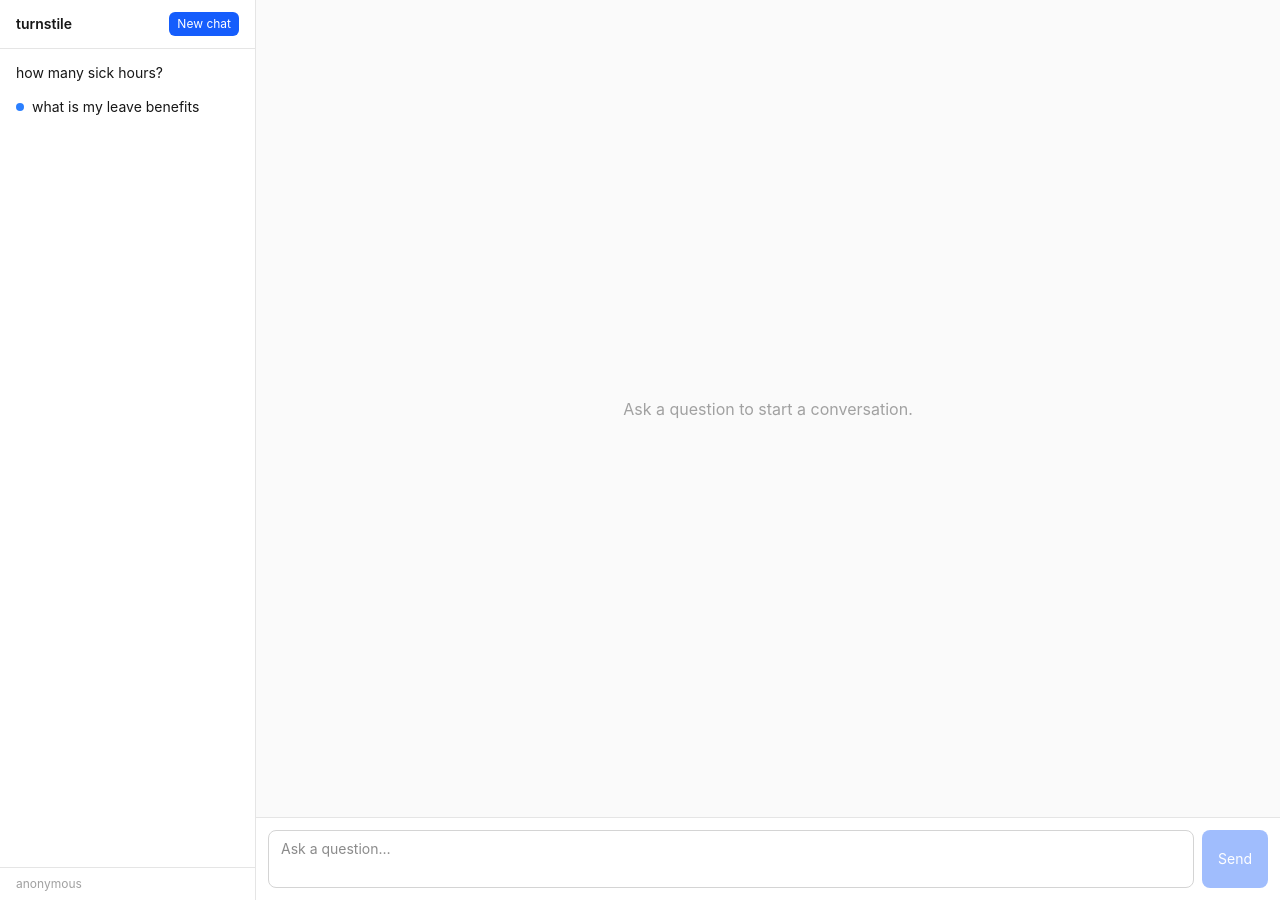
selecting a conversation loads its history (user + assistant only)
Click the button "how many sick hours?". click: [128, 73]
box: [8, 57, 247, 89]
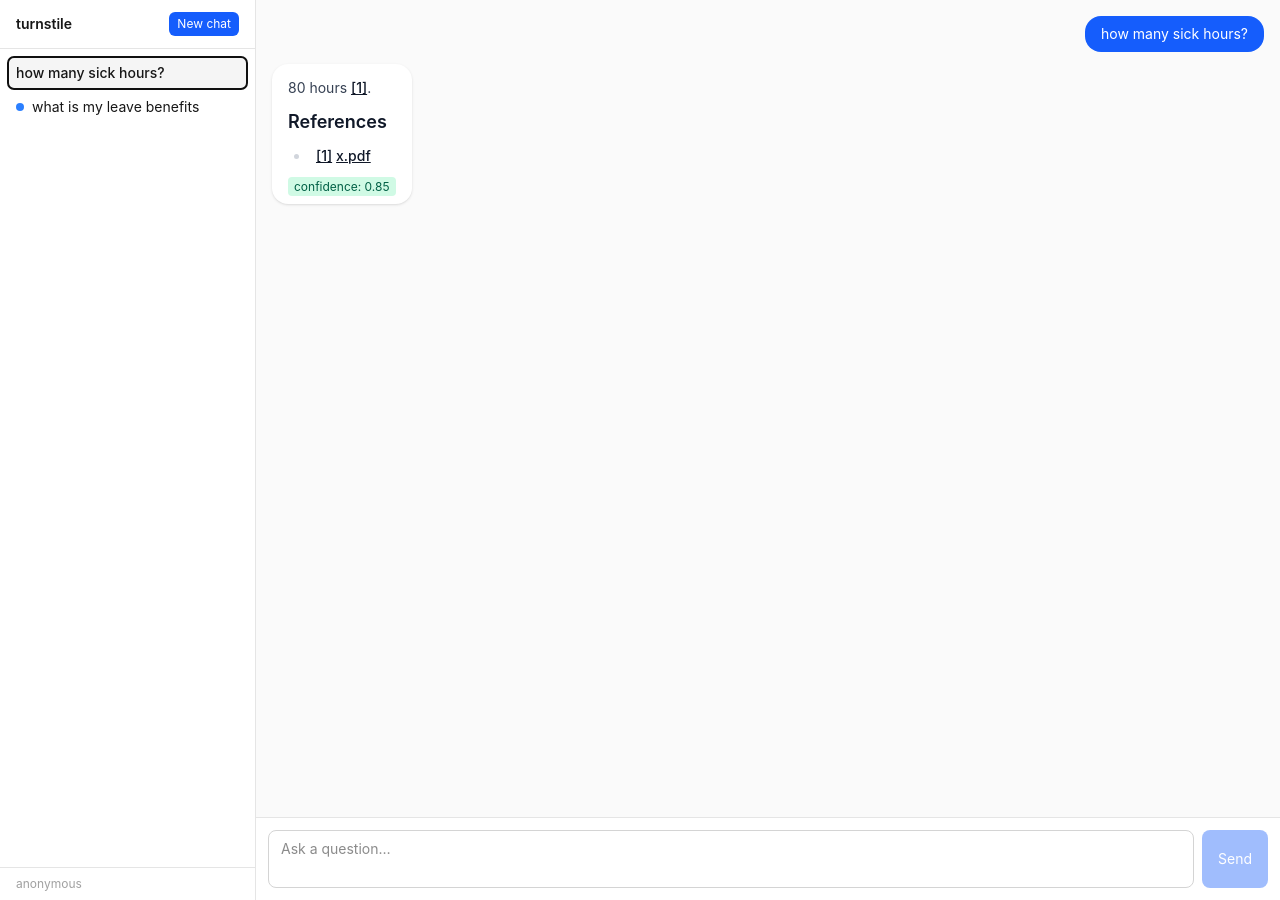
Check: the text "80 hours [1] ." is shown, box [288, 79, 371, 96]
Check: the 1st text "how many sick hours?" is shown, box [1085, 16, 1264, 52]
Check: the text with test id "signal" reads "confidence: 0.85", box [294, 179, 390, 194]
